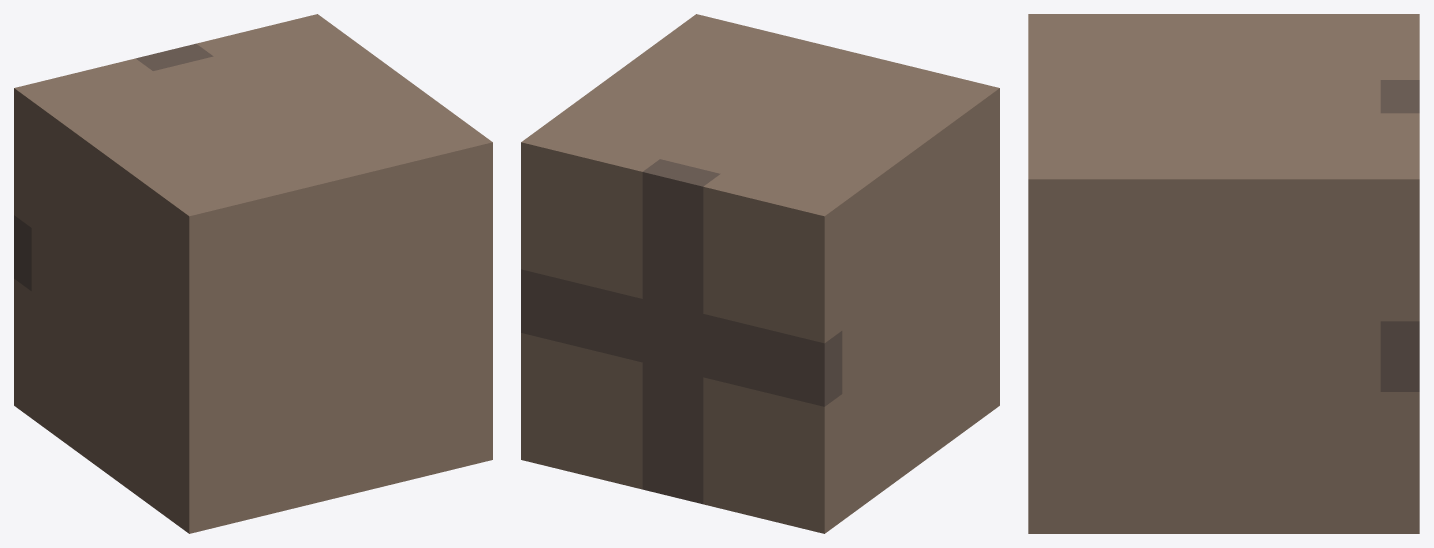
File: caisse.glb
3 renders of one model, left to right at view 1: azimuth 30°, elevation 25°; view 2: azimuth 150°, elevation 25°; view 3: azimuth 270°, elevation 25°, orthographic. The views are drawn at different scales.
Parts seen in each view (by area): view 1: main; view 2: main; view 3: main.
Part boxes in pixels (bbox=[...]): main: bbox=[14, 14, 492, 533]; main: bbox=[521, 14, 999, 533]; main: bbox=[1028, 14, 1419, 533].
Size of the model in its own units: 0.625 by 0.625 by 0.625.
